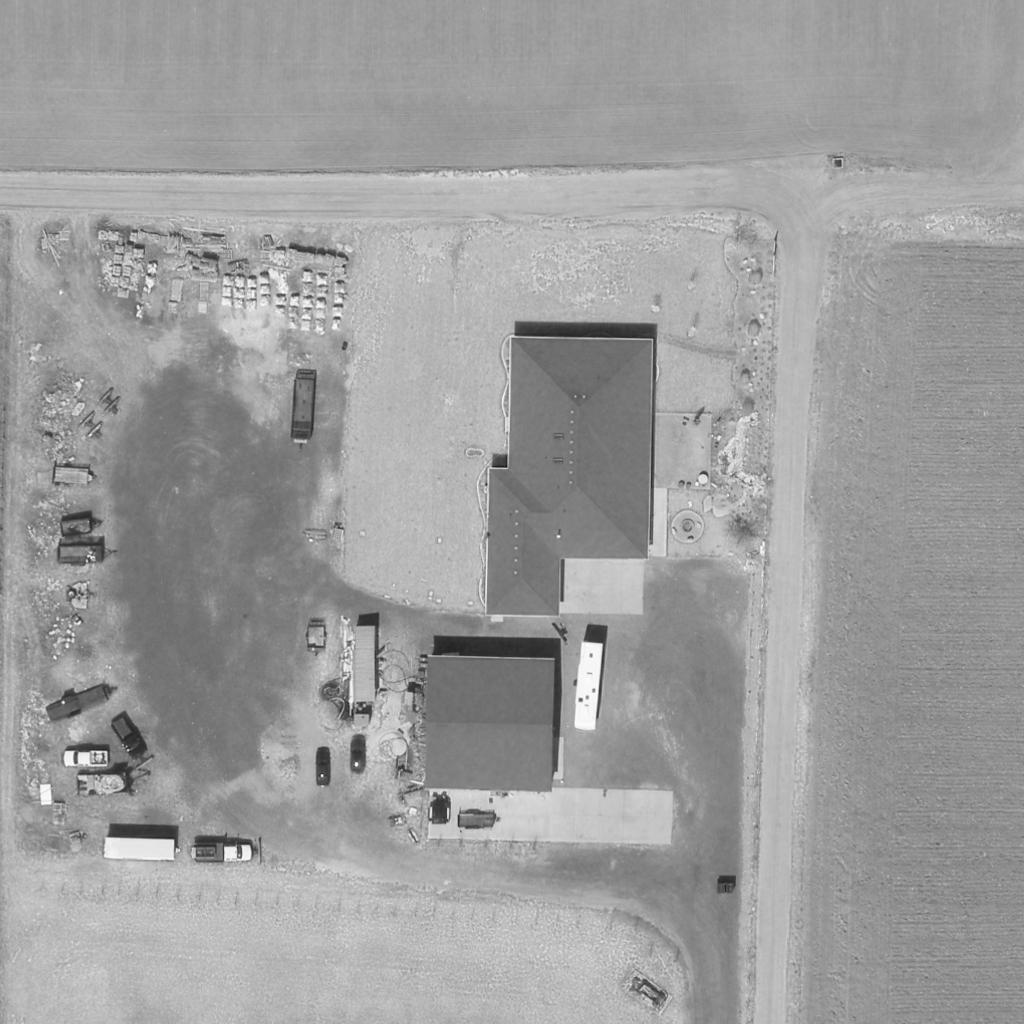vehicle: (570, 638, 606, 732), (351, 626, 377, 730), (103, 836, 175, 862), (111, 712, 149, 760), (192, 842, 254, 864), (345, 734, 369, 774), (63, 751, 109, 769), (313, 747, 333, 787)
